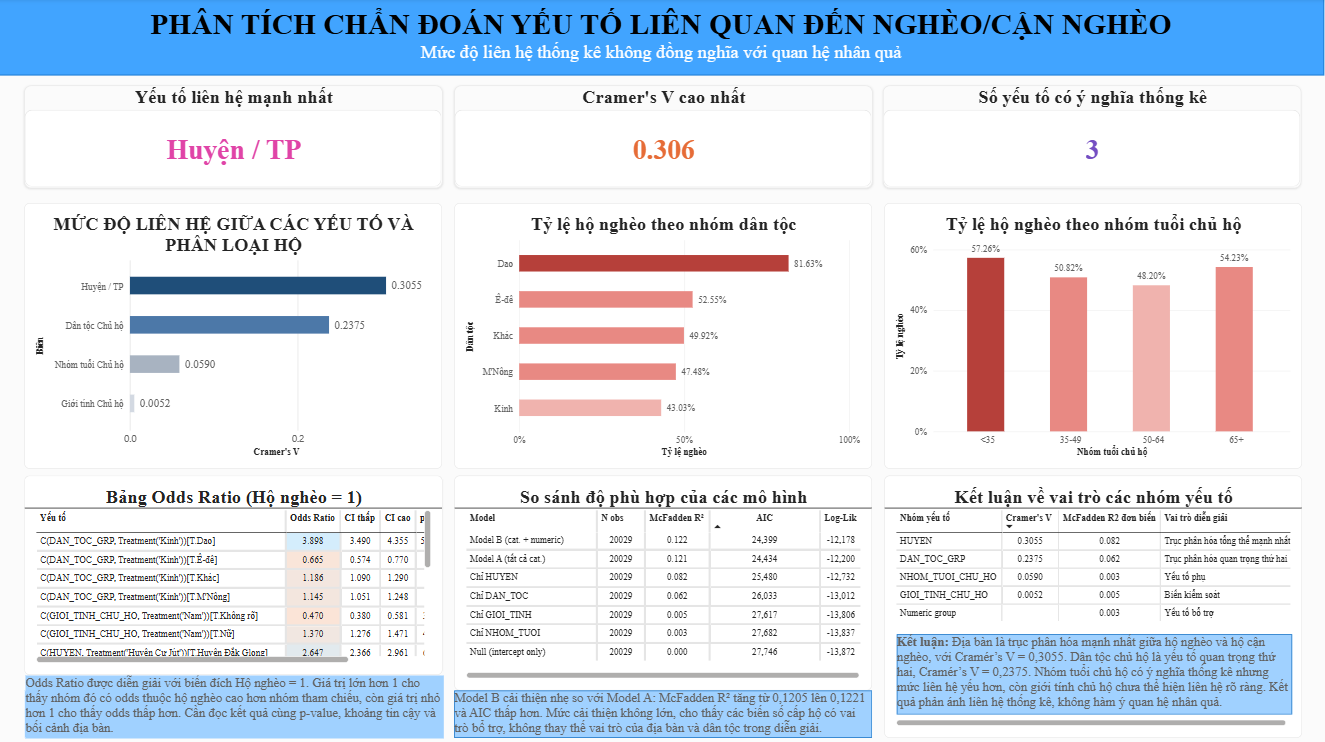

The page's visual inventory and layout, read from the dashboard file:
{"tool":"powerbi","page":{"name":"Phân tích chẩn đoán các yếu tố liên quan đến nghèo/cận nghèo","canvas":[1920,1080],"ordinal":3},"visuals":[{"type":"shape","box":[0,0,1920,112],"z":0},{"type":"textbox","box":[0,12.9,1920,98.6],"z":1000},{"type":"cardVisual","title":"Yếu tố liên hệ mạnh nhất","fields":{"Data":["CramersV.yếu tố liên hệ mạnh nhất"]},"box":[38.6,127.1,605.7,148.6],"z":2000},{"type":"cardVisual","title":"Cramer''s V cao nhất","fields":{"Data":["CramersV.CramersV cao nhất"]},"box":[660,127.1,605.7,148.6],"z":3000},{"type":"cardVisual","title":"Số yếu tố có ý nghĩa thống kê","fields":{"Data":["CramersV.Số yếu tố có ý nghĩa"]},"box":[1281.4,127.1,605.7,148.6],"z":4000},{"type":"clusteredBarChart","title":"MỨC ĐỘ LIÊN HỆ GIỮA CÁC YẾU TỐ VÀ PHÂN LOẠI HỘ","fields":{"Category":["CramersV.Biến"],"Y":["Max(CramersV.Cramér's V)"]},"box":[38.8,296.2,605,385],"z":5000},{"type":"clusteredBarChart","title":"Tỷ lệ hộ nghèo theo nhóm dân tộc","fields":{"Category":["Ethnicity_Poverty.DAN_TOC_GRP"],"Y":["Ethnicity_Poverty.Tỷ lệ nghèo theo dân tộc"]},"box":[661.2,296.2,605,385],"z":6000},{"type":"clusteredColumnChart","title":"Tỷ lệ hộ nghèo theo nhóm tuổi chủ hộ","fields":{"Category":["DimNhomTuoi.NHOM_TUOI_CHU_HO"],"Y":["Ethnicity_Poverty.Tỷ lệ nghèo theo nhóm tuổi"]},"box":[1282.5,296.2,605,385],"z":7000},{"type":"tableEx","title":"Bảng Odds Ratio (Hộ nghèo = 1)","fields":{"Values":["Odds_Ratio.Yeu_to","Max(Odds_Ratio.Odds_Ratio)","Sum(Odds_Ratio.CI_low)","Max(Odds_Ratio.CI_high)","Max(Odds_Ratio.p)","Odds_Ratio.sig"]},"box":[38.6,691.4,605.7,288.6],"z":8000},{"type":"shape","box":[38.8,1002.5,605,68.8],"z":9000},{"type":"textbox","box":[40,980,605.7,91.4],"z":10000},{"type":"tableEx","title":"So sánh độ phù hợp của các mô hình","fields":{"Values":["Model_Comparison.Model","Max(Model_Comparison.N obs)","Max(Model_Comparison.McFadden R²)","Max(Model_Comparison.AIC)","Max(Model_Comparison.Log-Lik)"]},"box":[661.2,691.2,605,311.2],"z":11000},{"type":"shape","box":[661.2,1002.5,605,68.8],"z":12000},{"type":"textbox","box":[661.4,1002.9,604.3,68.6],"z":13000},{"type":"tableEx","title":"Kết luận về vai trò các nhóm yếu tố","fields":{"Values":["Factor_Ranking.Nhom_yeu_to","Max(Factor_Ranking.Cramers_V)","Max(Factor_Ranking.McFadden_R2_don_bien)","Factor_Ranking.Vai_tro_dien_giai"]},"box":[1282.5,691.2,605,380],"z":14000},{"type":"shape","box":[1301.2,921.2,572.5,116.2],"z":15000},{"type":"textbox","box":[1302,921,573,117],"z":16000}]}

Visuals, with their boxes in screenshot pixels (x1, y1, x2, y2), scaled from the page's 1920x1080 canvas onto the 1325x742 screenshot:
shape: locate(0, 0, 1324, 77)
textbox: locate(0, 9, 1324, 77)
"Yếu tố liên hệ mạnh nhất" cardVisual: locate(27, 87, 445, 189)
"Cramer''s V cao nhất" cardVisual: locate(455, 87, 873, 189)
"Số yếu tố có ý nghĩa thống kê" cardVisual: locate(884, 87, 1302, 189)
"MỨC ĐỘ LIÊN HỆ GIỮA CÁC YẾU TỐ VÀ PHÂN LOẠI HỘ" clusteredBarChart: locate(27, 204, 444, 468)
"Tỷ lệ hộ nghèo theo nhóm dân tộc" clusteredBarChart: locate(456, 204, 874, 468)
"Tỷ lệ hộ nghèo theo nhóm tuổi chủ hộ" clusteredColumnChart: locate(885, 204, 1303, 468)
"Bảng Odds Ratio (Hộ nghèo = 1)" tableEx: locate(27, 475, 445, 673)
shape: locate(27, 689, 444, 736)
textbox: locate(28, 673, 446, 736)
"So sánh độ phù hợp của các mô hình" tableEx: locate(456, 475, 874, 689)
shape: locate(456, 689, 874, 736)
textbox: locate(456, 689, 873, 736)
"Kết luận về vai trò các nhóm yếu tố" tableEx: locate(885, 475, 1303, 736)
shape: locate(898, 633, 1293, 713)
textbox: locate(899, 633, 1294, 713)
